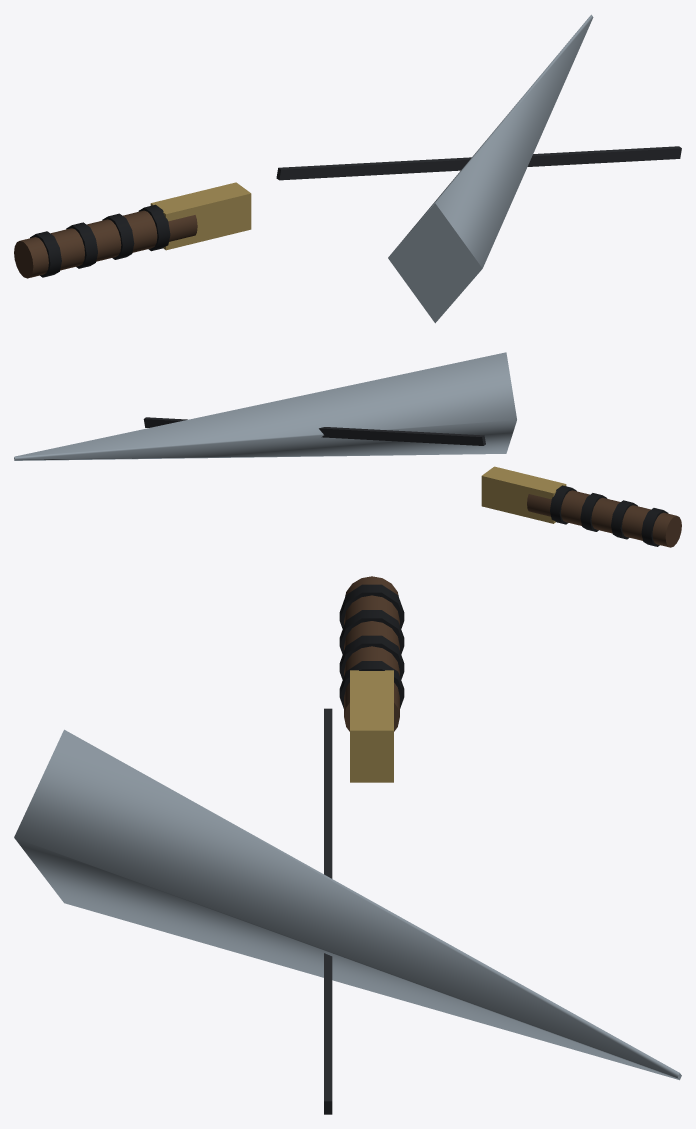
Rendered from fantasy-lab-relic-rail-sword-v1.glb.
The picture shows the model from 3 angles, top to bottom: view 1: azimuth 30°, elevation 25°; view 2: azimuth 150°, elevation 25°; view 3: azimuth 270°, elevation 25°; orthographic projection. The views are drawn at different scales.
Parts seen in each view (by area): view 1: Relic Rail Sword; view 2: Relic Rail Sword; view 3: Relic Rail Sword.
Part boxes in pixels (x1,y1,x2,y2): Relic Rail Sword: (14, 14, 681, 323); Relic Rail Sword: (14, 352, 681, 547); Relic Rail Sword: (14, 576, 681, 1114).
Bounding box in the file's own units: 4.11 × 0.7 × 2.44.
